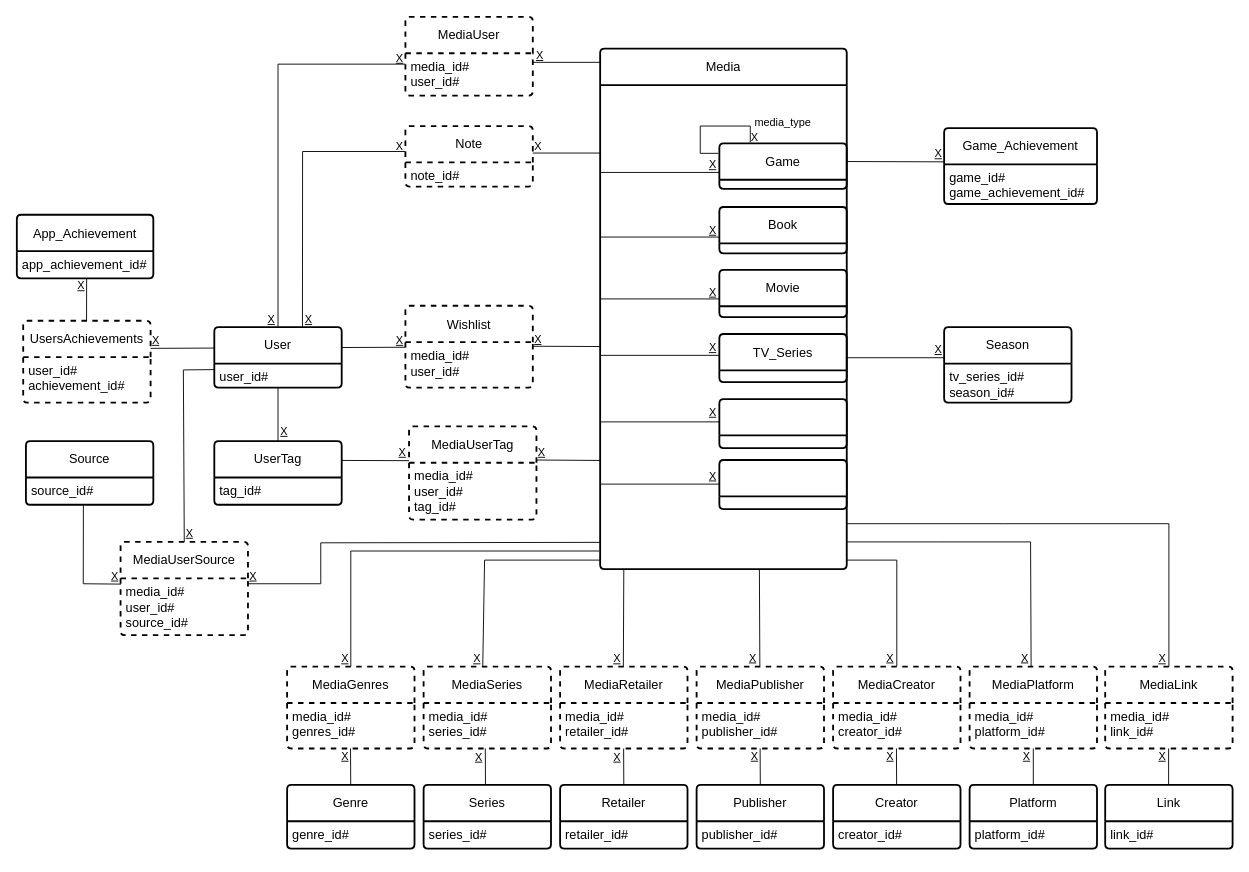
The diagram is 1249 pixels wide and 872 high, and some of its shapes have lost their labels. Each missing label, with the centre of its shape:
Anime: the point at 782,484
Manga: the point at 782,423
